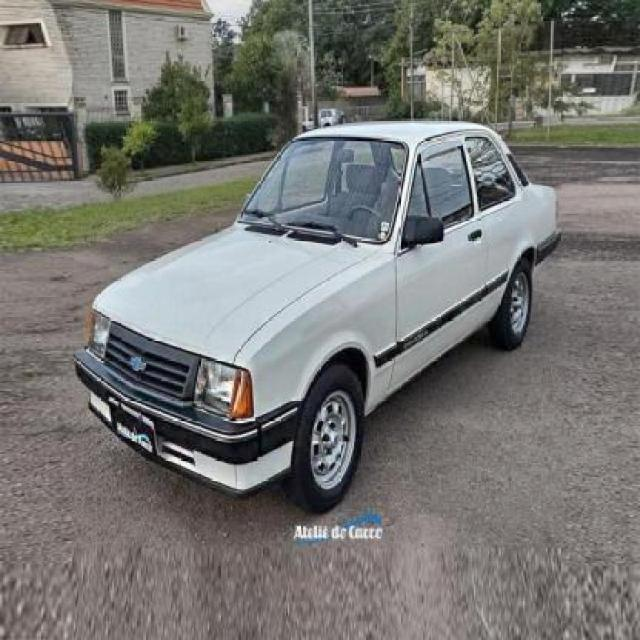car: (75, 118, 563, 520)
